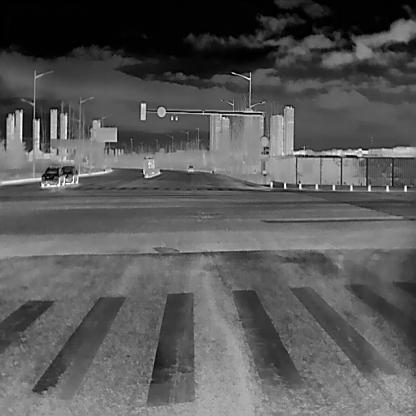car: (40, 165, 65, 186), (60, 164, 78, 184), (142, 156, 154, 173), (187, 164, 194, 172)
